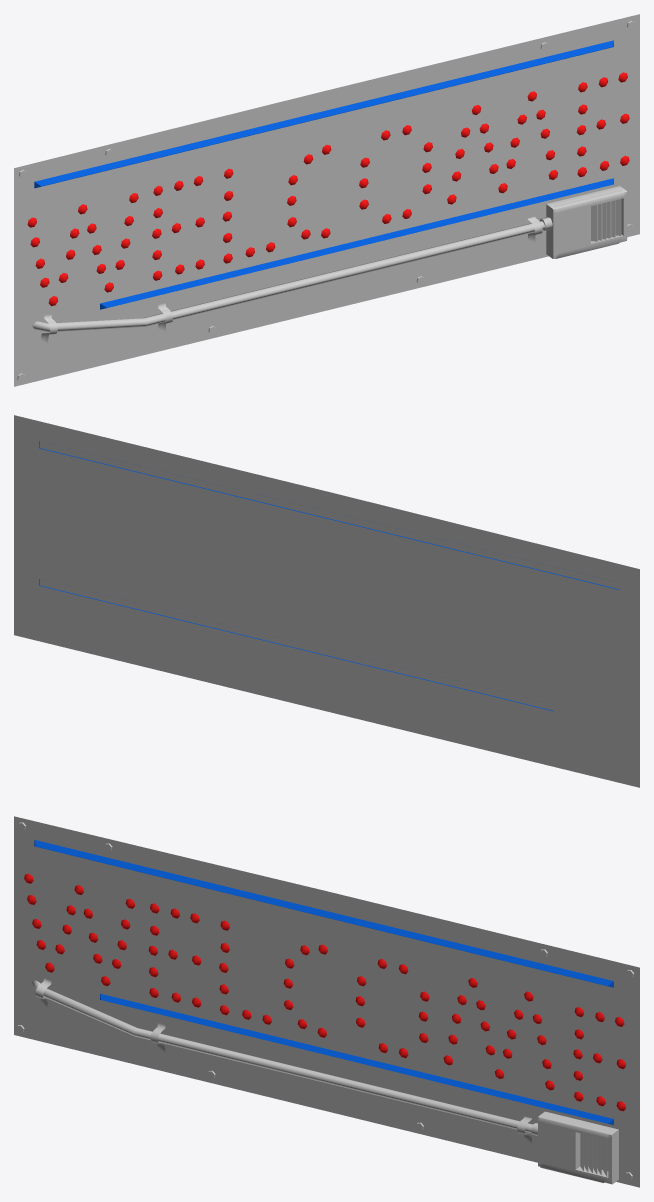
The model's file is Welcome Sign.FBX.
3 renders of one model, top to bottom at view 1: azimuth 30°, elevation 25°; view 2: azimuth 150°, elevation 25°; view 3: azimuth 330°, elevation 25°, orthographic.
Visible parts, largest first — view 1: Welcome Sign_LOD0, Welcome Neon_LOD0; view 2: Welcome Sign_LOD0, Welcome Neon_LOD0; view 3: Welcome Sign_LOD0, Welcome Neon_LOD0.
Part boxes in pixels (x1,y1,x2,y2): Welcome Sign_LOD0: (14,14,639,386); Welcome Neon_LOD0: (27,40,629,309); Welcome Sign_LOD0: (14,415,639,787); Welcome Neon_LOD0: (39,441,619,711); Welcome Sign_LOD0: (14,816,639,1187); Welcome Neon_LOD0: (24,840,625,1124).
Size of what is drawn, in the model's own units: 162 by 54.45 by 4.12.
